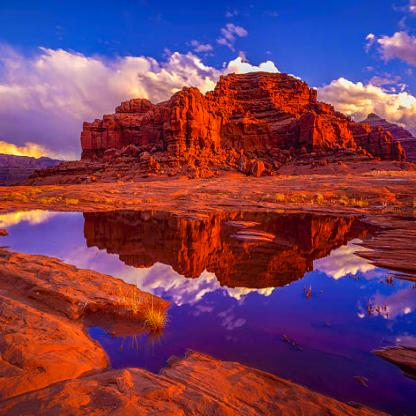Sedimentary_Sandstone: (223, 77, 303, 149), (166, 91, 218, 161), (360, 126, 402, 160), (312, 108, 340, 154), (110, 116, 139, 160), (77, 111, 102, 161)
